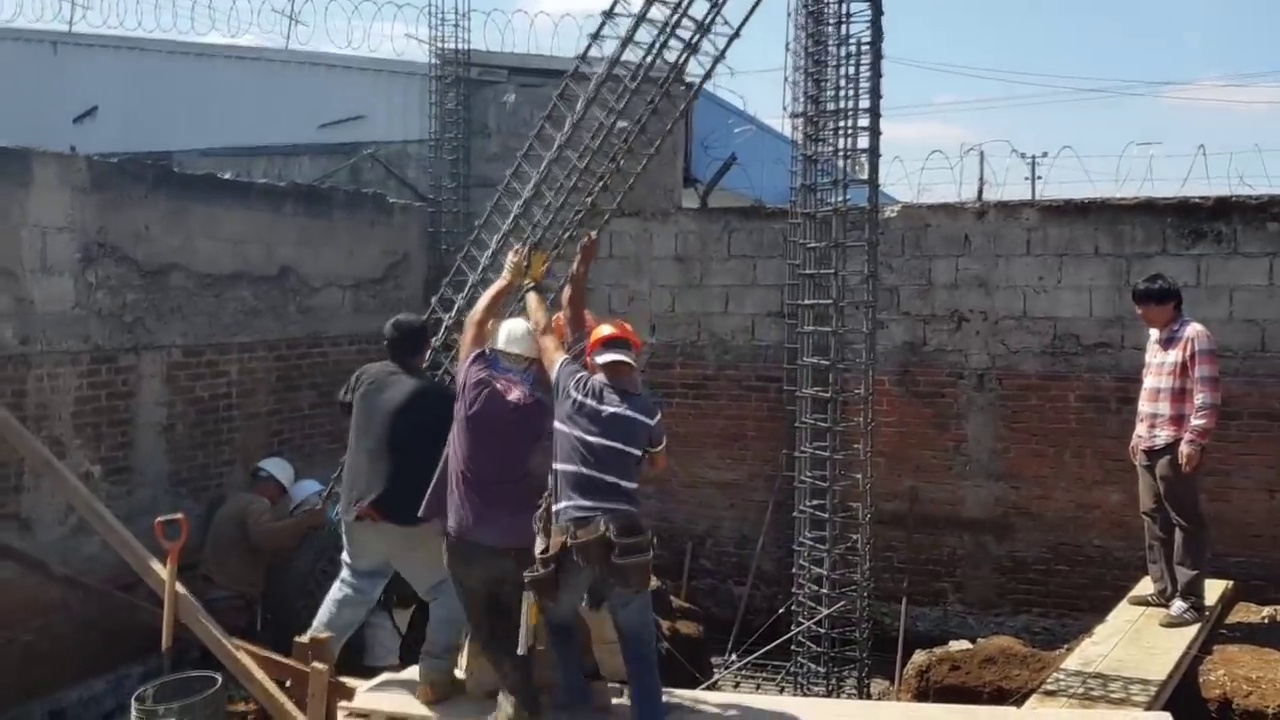helmet: (587, 322, 643, 364), (490, 317, 540, 362), (256, 457, 296, 491), (288, 478, 326, 513)
helmet-off: (378, 316, 433, 373), (1142, 277, 1192, 336)
helmet-on: (585, 321, 644, 393), (490, 317, 541, 378), (240, 457, 295, 504)
person: (308, 318, 451, 714), (438, 293, 554, 720), (552, 309, 673, 691), (1128, 281, 1223, 645), (206, 456, 329, 628)
